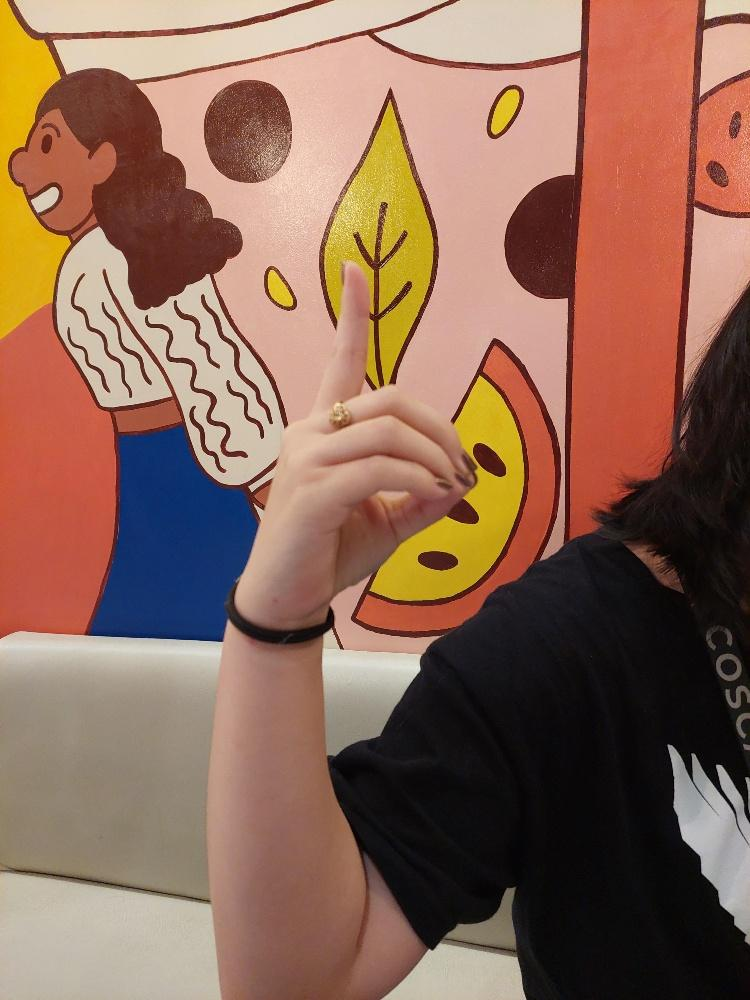d: (239, 256, 481, 612)
